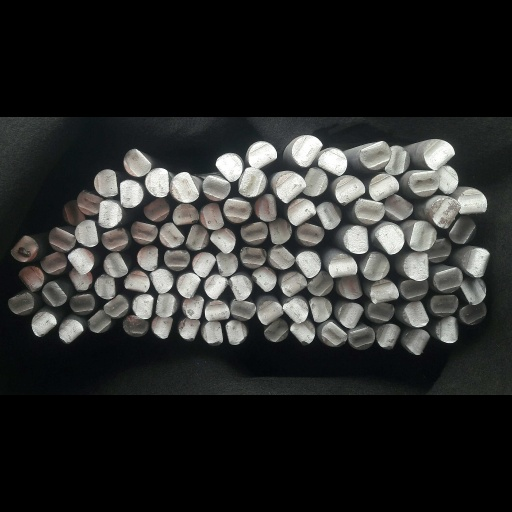dipstick: (292, 135, 322, 167), (424, 139, 454, 171), (358, 141, 391, 170), (170, 172, 199, 202), (276, 173, 305, 203), (374, 225, 404, 254), (431, 199, 460, 228), (409, 221, 437, 251), (123, 148, 151, 177), (336, 177, 365, 205), (215, 153, 242, 182), (462, 248, 489, 277), (369, 174, 399, 200), (409, 170, 439, 196), (10, 235, 38, 262), (318, 149, 346, 176), (449, 217, 476, 245), (248, 142, 277, 168), (239, 168, 265, 197), (355, 198, 384, 224), (363, 252, 389, 281), (403, 252, 429, 281), (384, 145, 409, 175), (74, 220, 101, 247), (48, 226, 76, 252), (202, 175, 230, 201), (288, 199, 316, 225), (67, 248, 94, 274), (295, 250, 321, 277), (385, 194, 412, 220), (460, 277, 486, 304), (434, 267, 462, 292), (119, 179, 143, 208), (145, 168, 169, 197), (223, 198, 252, 222), (136, 245, 162, 271), (316, 202, 341, 229), (303, 168, 327, 196), (344, 225, 368, 253), (458, 189, 486, 213), (42, 281, 67, 307), (103, 252, 129, 277), (77, 190, 103, 215), (131, 219, 157, 244), (258, 300, 284, 325), (283, 298, 308, 324), (280, 272, 306, 297), (308, 270, 333, 296), (321, 322, 347, 347), (376, 323, 401, 349), (405, 329, 430, 355), (40, 251, 67, 275), (93, 169, 117, 196), (143, 197, 170, 221), (200, 203, 224, 230), (240, 221, 267, 245), (402, 302, 429, 326), (296, 223, 324, 246), (329, 253, 357, 276), (370, 280, 398, 303), (458, 303, 487, 325), (18, 266, 43, 291), (58, 319, 83, 344), (62, 200, 87, 225), (210, 228, 235, 253), (338, 303, 363, 328), (153, 292, 177, 318), (192, 251, 216, 277), (289, 321, 315, 345), (99, 201, 122, 228), (436, 165, 458, 193), (399, 279, 428, 300), (31, 312, 56, 336), (176, 273, 200, 298), (159, 223, 184, 247), (204, 274, 228, 299), (269, 245, 294, 269), (8, 292, 34, 315), (348, 327, 375, 349), (430, 295, 458, 316), (132, 294, 156, 318), (151, 315, 175, 339), (252, 267, 276, 291), (427, 238, 451, 262), (68, 268, 93, 291), (70, 292, 95, 315), (103, 295, 128, 318), (150, 269, 173, 294), (186, 225, 209, 250), (231, 298, 256, 321), (309, 297, 332, 322), (122, 314, 148, 336), (240, 246, 266, 268), (269, 218, 291, 244), (436, 316, 458, 342), (255, 194, 276, 221), (88, 309, 112, 332), (225, 320, 248, 344), (339, 275, 362, 299), (124, 271, 149, 293), (216, 251, 238, 276), (229, 275, 251, 300), (172, 204, 199, 224), (264, 319, 288, 341), (202, 320, 223, 345), (164, 250, 189, 271), (368, 303, 395, 322), (178, 318, 201, 340), (182, 295, 204, 318), (94, 274, 115, 298), (205, 300, 229, 321)
